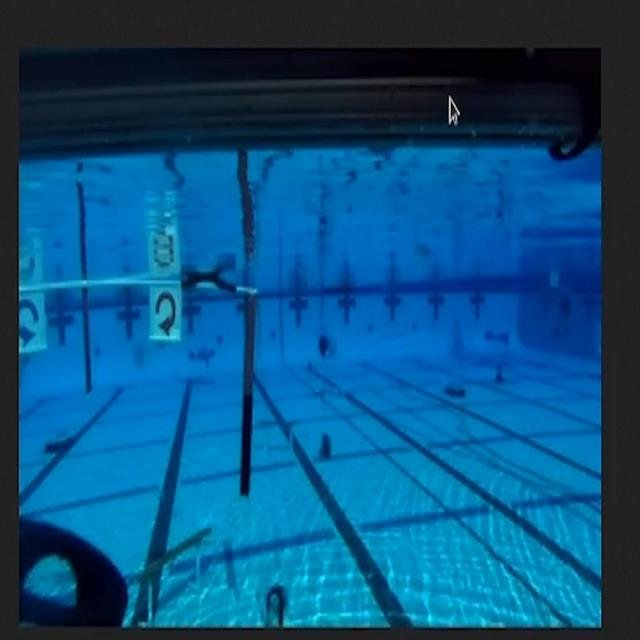Gate: (22, 274, 269, 517)
